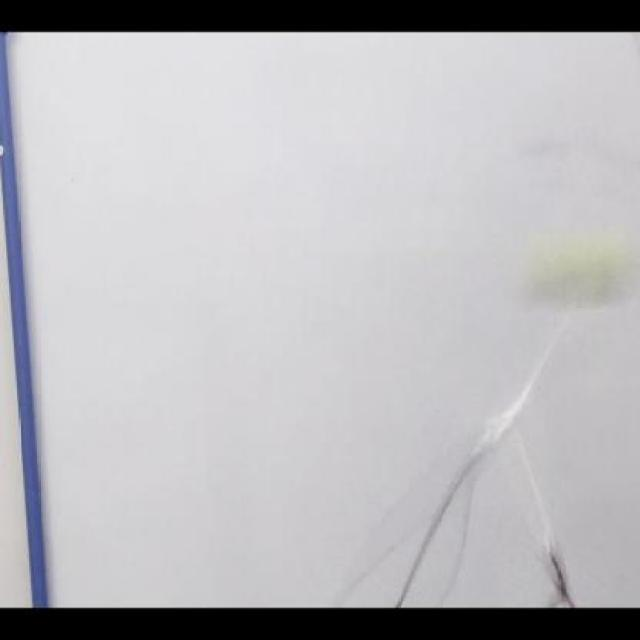baseball: (506, 220, 640, 300)
